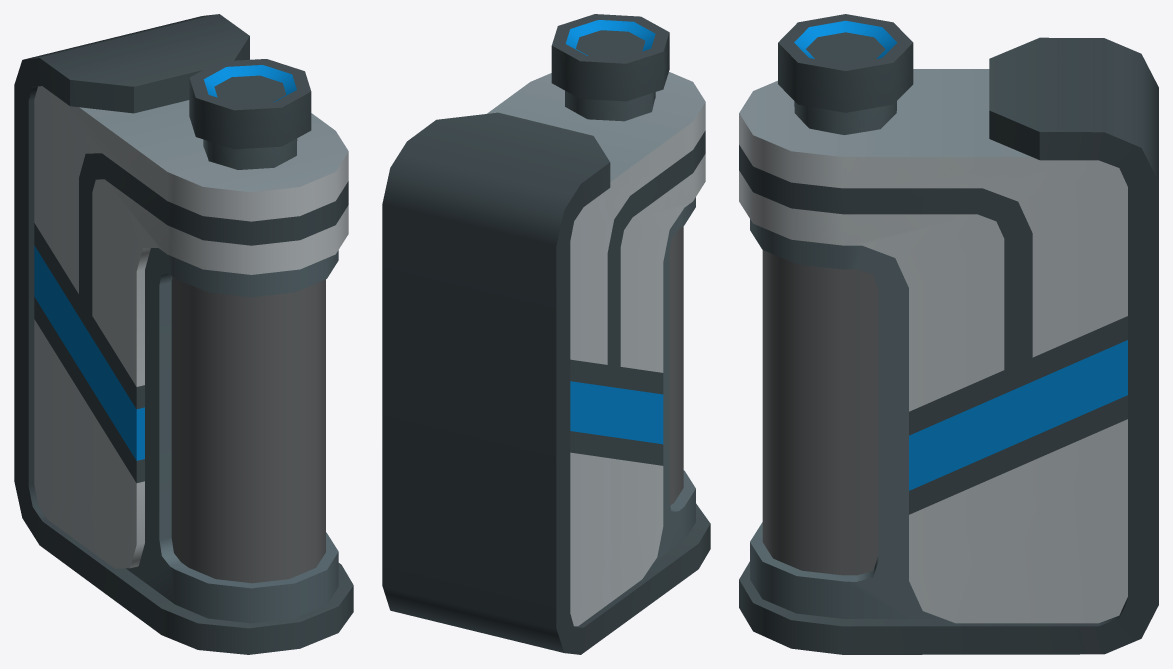
File: Gas_can_010.fbx
The picture shows the model from 3 angles, left to right: view 1: azimuth 30°, elevation 25°; view 2: azimuth 150°, elevation 25°; view 3: azimuth 270°, elevation 25°; orthographic projection. The views are drawn at different scales.
Visible parts, largest first — view 1: Gas_can_010; view 2: Gas_can_010; view 3: Gas_can_010.
Part boxes in pixels (x1=…): Gas_can_010: x1=14, y1=14, x2=353, y2=654; Gas_can_010: x1=382, y1=14, x2=710, y2=654; Gas_can_010: x1=739, y1=14, x2=1158, y2=654.
Size of the model in its own units: 19.63 by 36.99 by 54.97.
